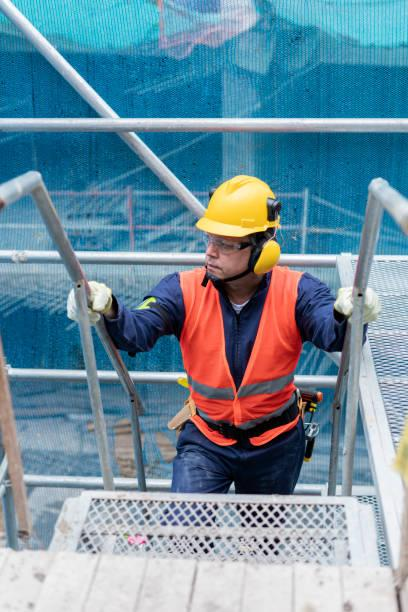goggle: (201, 233, 260, 254)
helmet: (188, 159, 299, 239)
vest: (168, 256, 325, 456)
